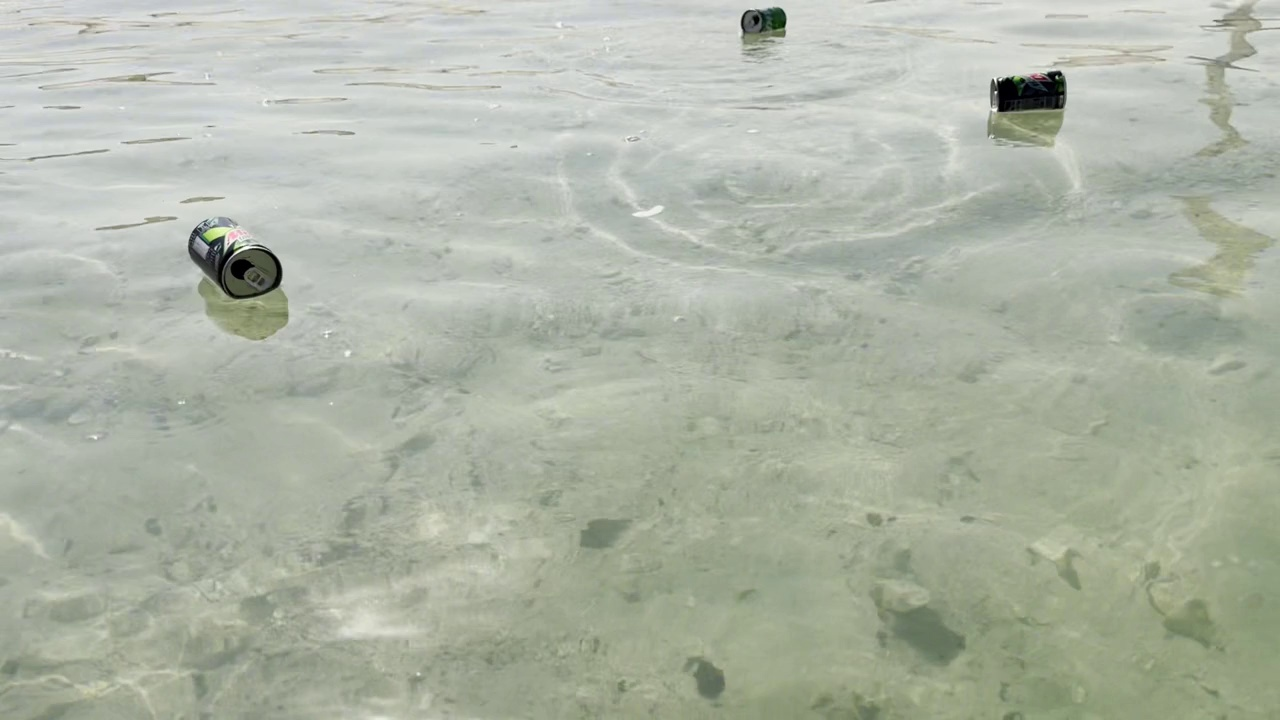debris: (176, 205, 292, 305), (983, 66, 1079, 123), (738, 0, 792, 40)
